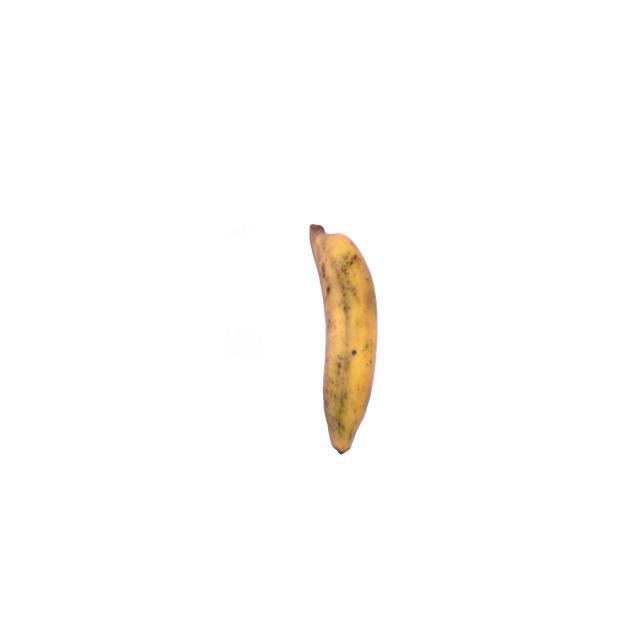Banana: (307, 218, 380, 456)
